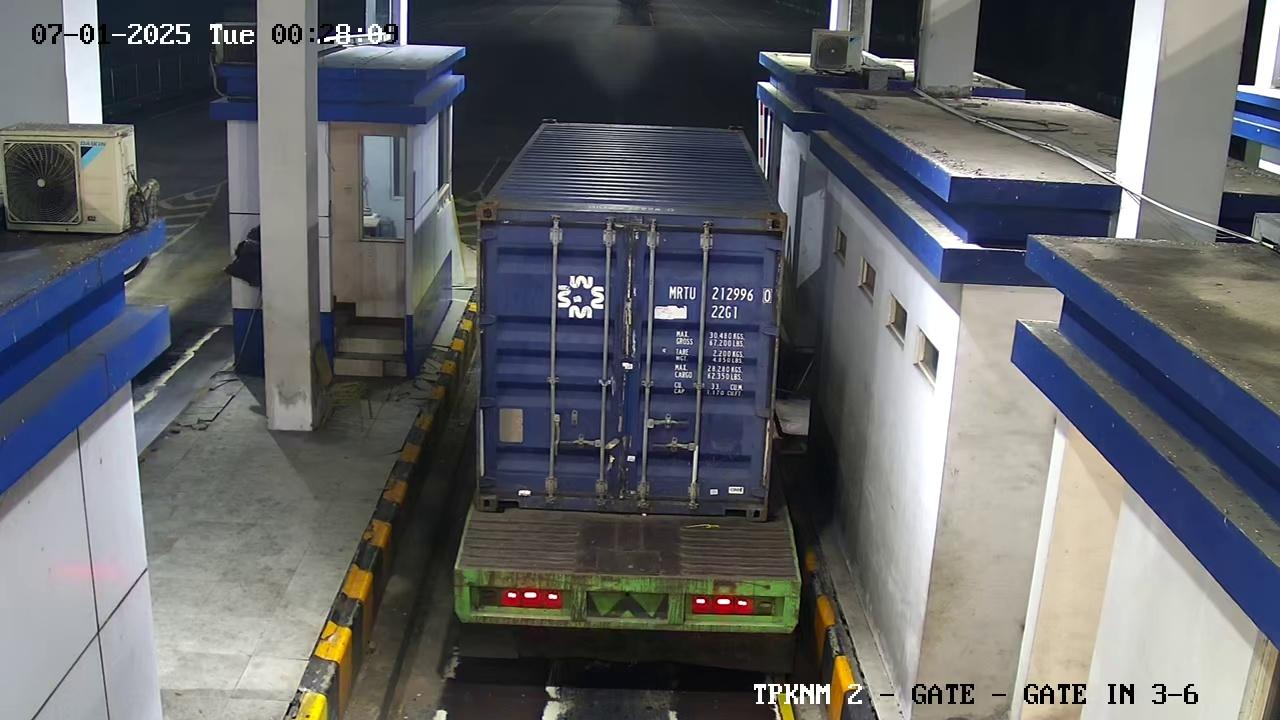Container_ID: (645, 274, 784, 328)
